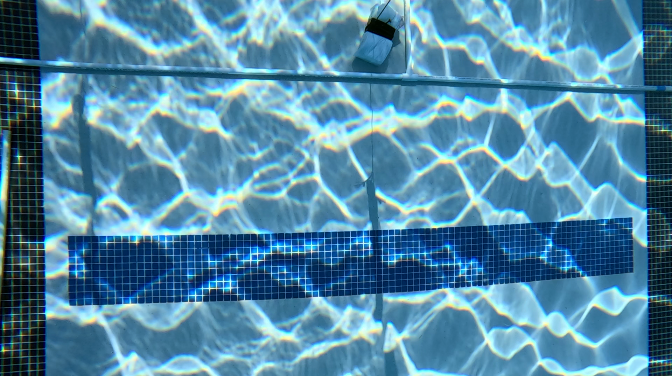sandbag: (355, 5, 404, 66)
